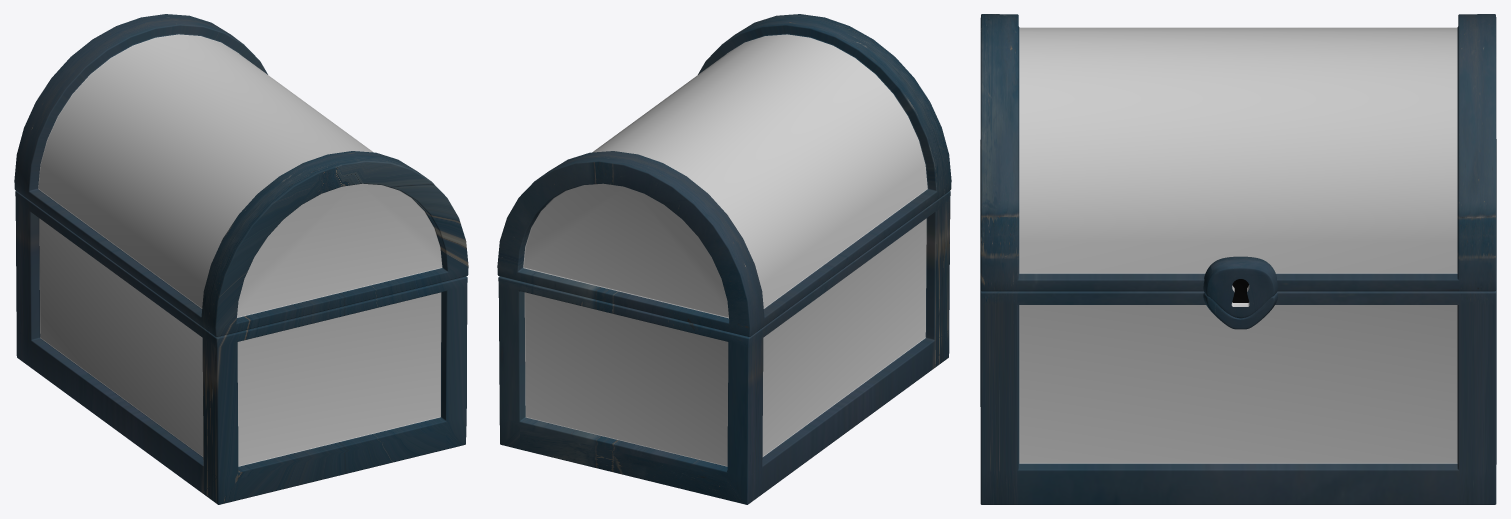
Rendered from cofre.fbx.
The picture shows the model from 3 angles, left to right: view 1: azimuth 30°, elevation 25°; view 2: azimuth 150°, elevation 25°; view 3: azimuth 270°, elevation 25°; orthographic projection. The views are drawn at different scales.
Parts seen in each view (by area): view 1: Decorative chest for games.002; view 2: Decorative chest for games.002; view 3: Decorative chest for games.002, Cube.001.
Boxes of the visible parts, x1,y1,x2,y2 form: Decorative chest for games.002: (14,14,468,504); Decorative chest for games.002: (497,14,951,504); Decorative chest for games.002: (980,14,1496,504); Cube.001: (1203,256,1277,329).
Bounding box in the file's own units: 74.43 × 84.83 × 100.
